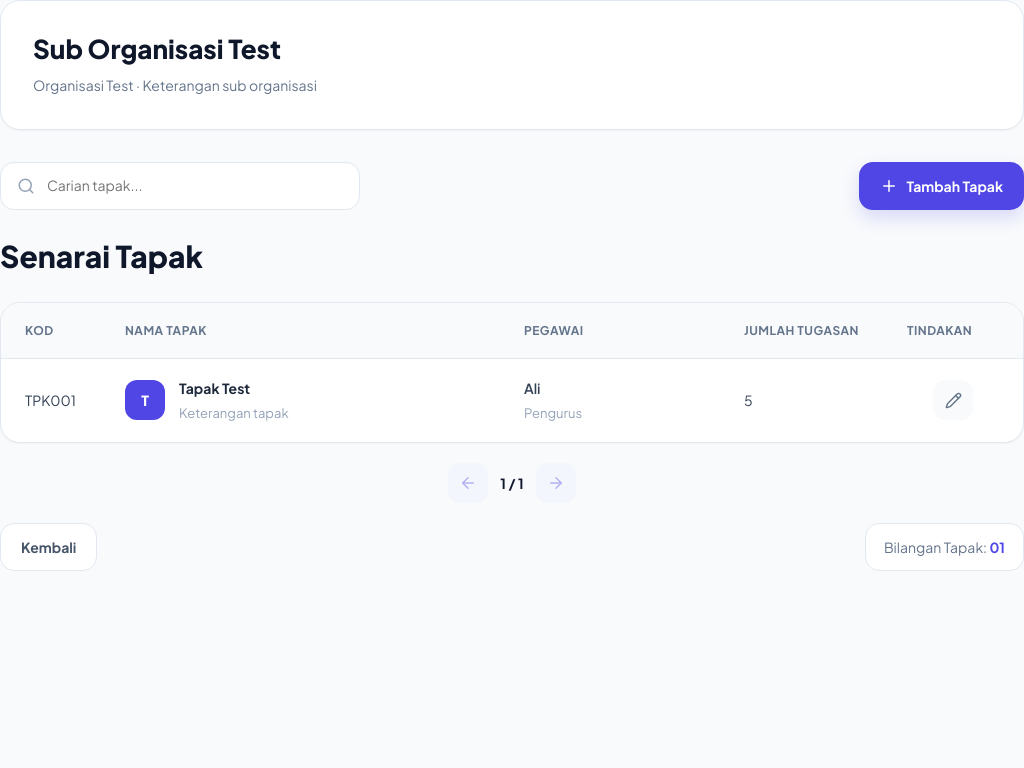
TapakPage.vue › membuka modal edit tapak
Click the button with class "ui-icon-button": [953, 400] box [933, 380, 973, 420]
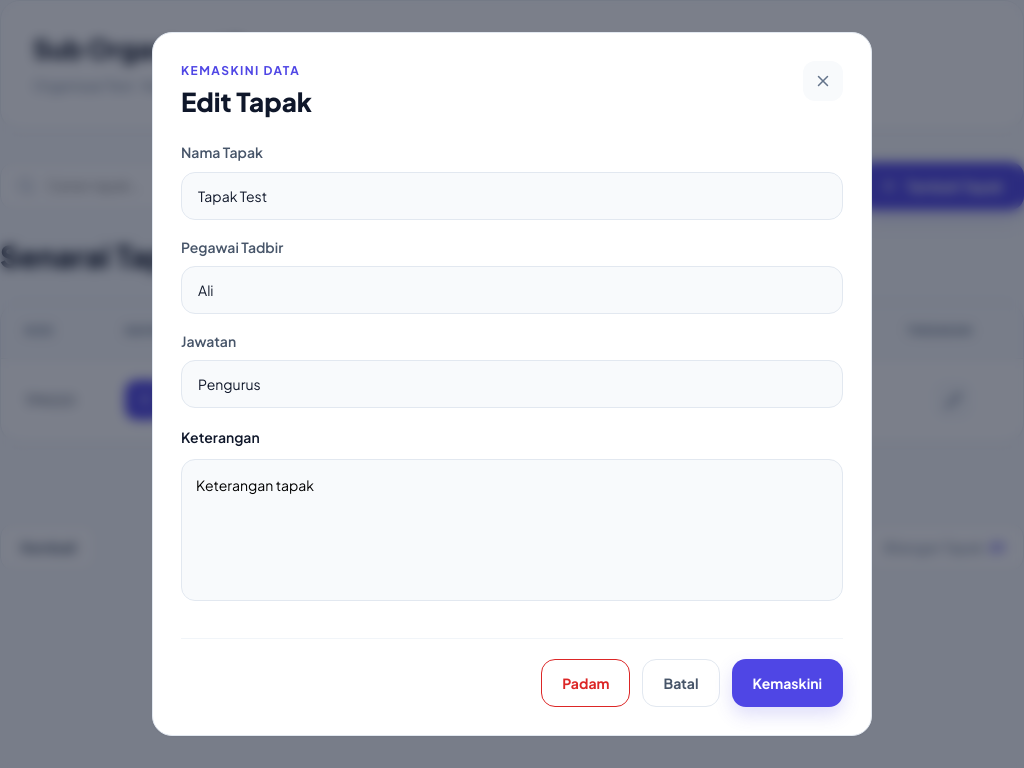
Expected: the text "Edit Tapak" is shown, [181, 86, 312, 117]
